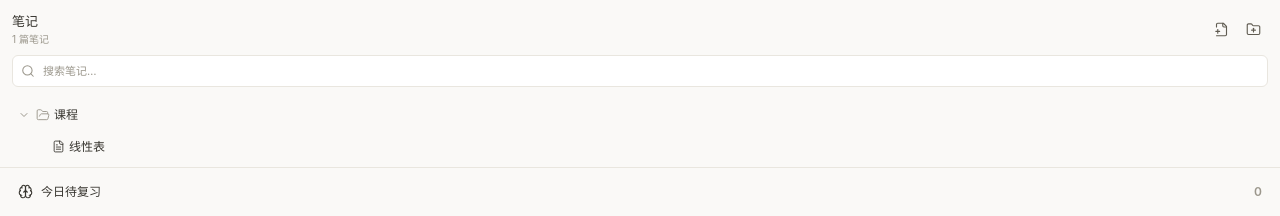
it: FileTree 即时搜索 › 回车打开匹配笔记，输入法候选不跳转，Esc清空
In the search field named "搜索笔记": (651, 70) [43,56,1259,86], type "线性"
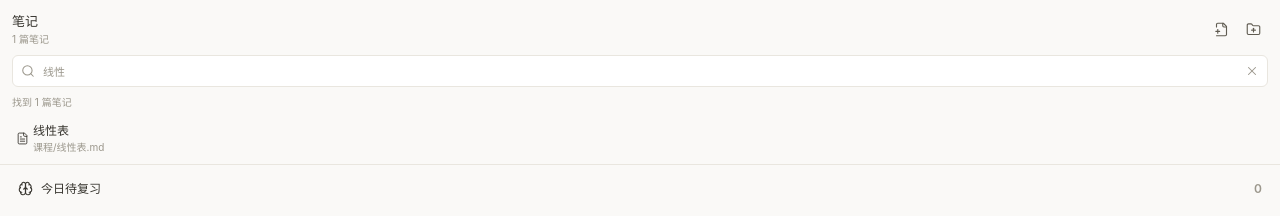
Press Enter in the search field named "搜索笔记", box [43,56,1237,86]
Press Enter in the search field named "搜索笔记", box [43,56,1237,86]
Press Escape in the search field named "搜索笔记", box [43,56,1237,86]
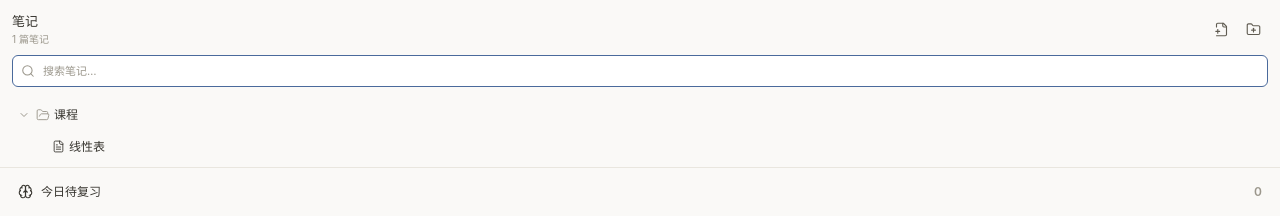
Result: the search field named "搜索笔记" is empty at [43,56,1259,86]
Result: the number of buttons with class "tree-row" is 2 at [8,98,1272,130]; [8,130,1272,162]
